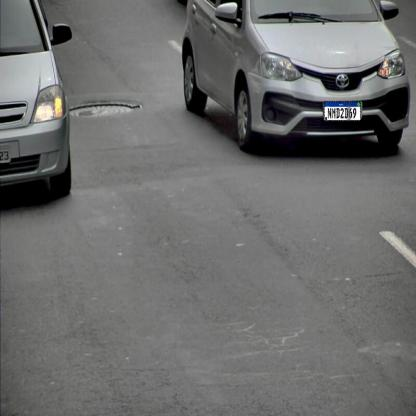PlacaM: (324, 102, 361, 122)
